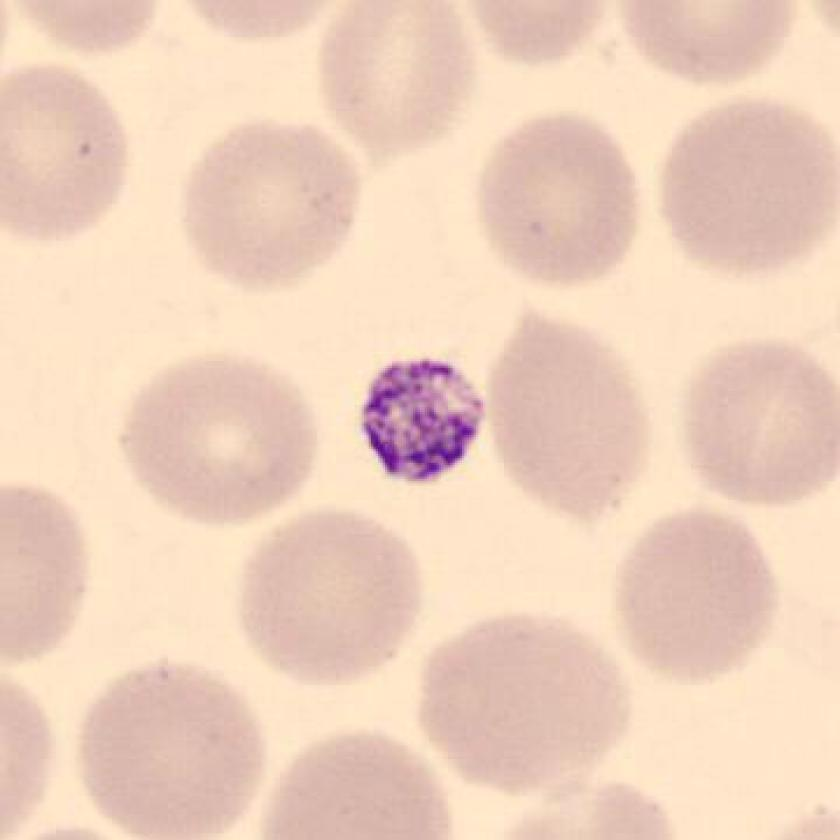platelets: (349, 351, 493, 492)
